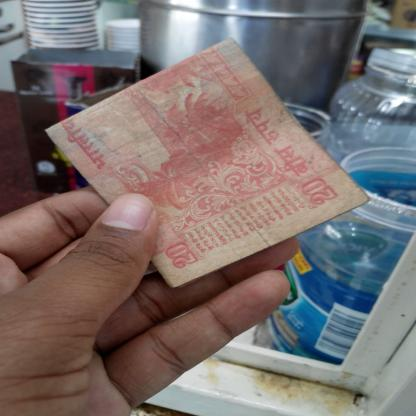Old20Back: (54, 40, 344, 274)
